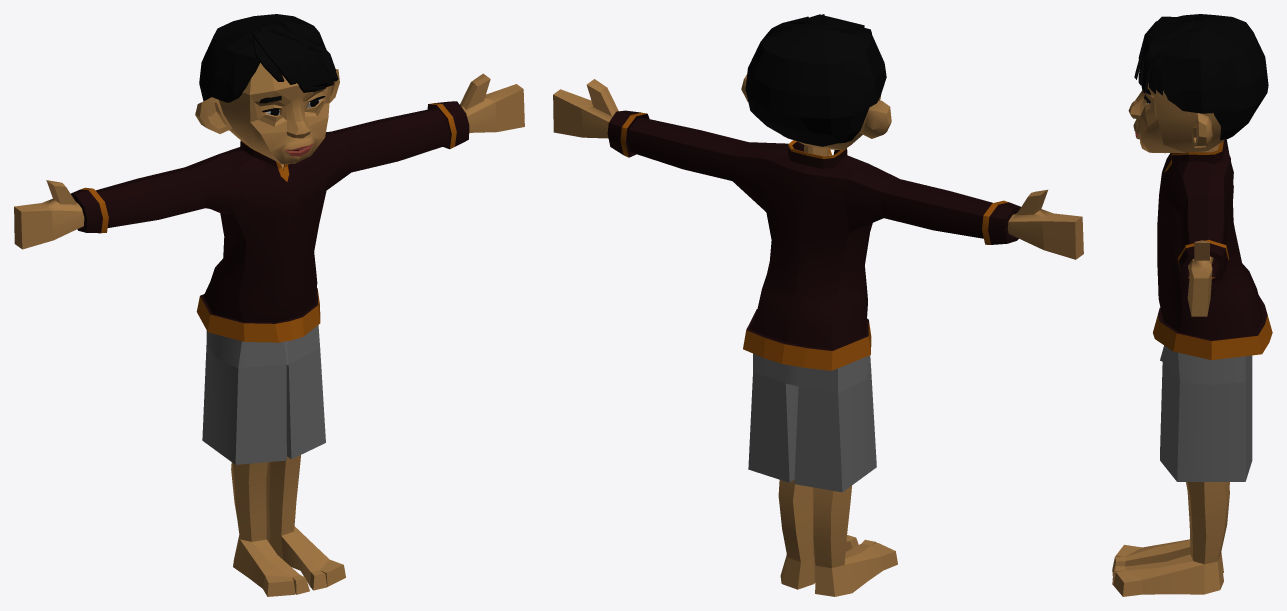
The model's file is littleBrother_Export_001.dae.
3 views of the same model, side by side, from view 1: azimuth 30°, elevation 25°; view 2: azimuth 150°, elevation 25°; view 3: azimuth 270°, elevation 25° (orthographic). The views are drawn at different scales.
Parts seen in each view (by area): view 1: pCube21, pCube3, pCube22, pCube18, pCube4; view 2: pCube21, pCube3, pCube22, pCube18; view 3: pCube21, pCube3, pCube22, pCube18, pCube4, pCube20, pCube9, pCube7, pCube5, pCube6, pCube19.
Boxes of the visible parts, bbox=[...] form: pCube21: bbox=[71, 101, 469, 342]; pCube3: bbox=[14, 63, 524, 596]; pCube22: bbox=[202, 325, 325, 464]; pCube18: bbox=[199, 14, 326, 102]; pCube4: bbox=[262, 23, 327, 87]; pCube21: bbox=[607, 110, 1020, 370]; pCube3: bbox=[553, 74, 1083, 596]; pCube22: bbox=[748, 353, 876, 492]; pCube18: bbox=[745, 16, 886, 146]; pCube21: bbox=[1153, 139, 1272, 360]; pCube3: bbox=[1112, 83, 1229, 596]; pCube22: bbox=[1160, 345, 1252, 481]; pCube18: bbox=[1158, 14, 1268, 140]; pCube4: bbox=[1138, 22, 1203, 85]; pCube20: bbox=[1151, 23, 1194, 95]; pCube9: bbox=[1142, 33, 1195, 93]; pCube7: bbox=[1138, 15, 1193, 58]; pCube5: bbox=[1134, 20, 1203, 79]; pCube6: bbox=[1141, 31, 1197, 93]; pCube19: bbox=[1147, 34, 1170, 94].
Bounding box in the file's own units: 13.44 × 13.66 × 3.59.
